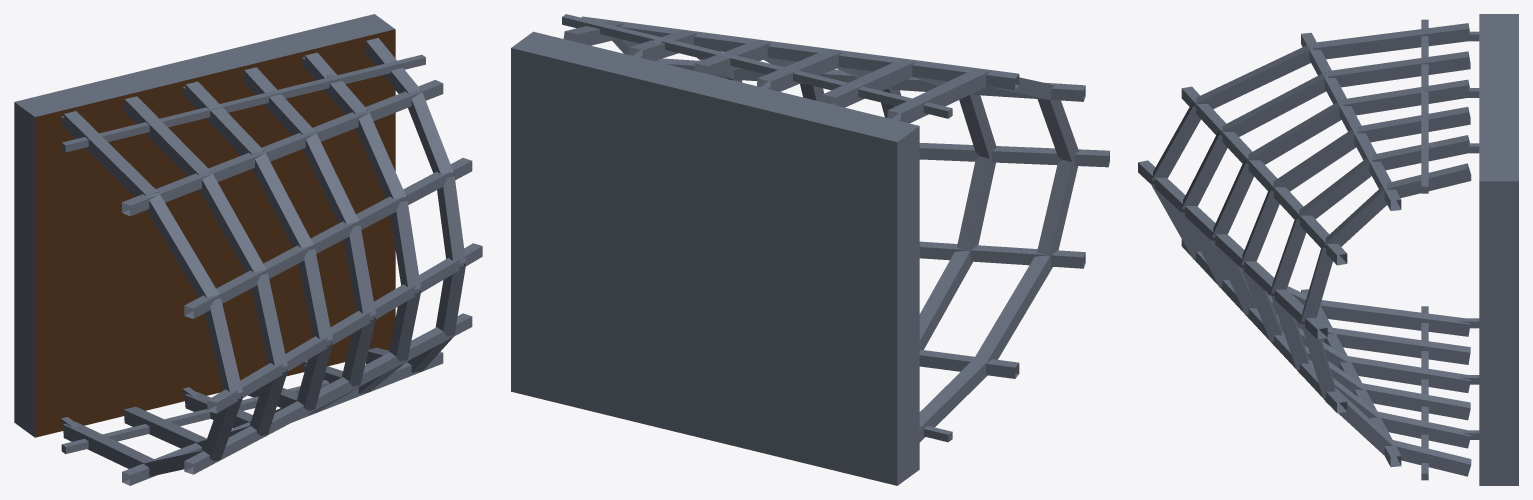
The model's file is south.glb.
The picture shows the model from 3 angles, left to right: view 1: azimuth 30°, elevation 25°; view 2: azimuth 150°, elevation 25°; view 3: azimuth 270°, elevation 25°; orthographic projection. The views are drawn at different scales.
Visible parts, largest first — view 1: bridge_12_south; view 2: bridge_12_south; view 3: bridge_12_south.
Part boxes in pixels (x1,y1,x2,y2): bridge_12_south: (14,14,482,485); bridge_12_south: (511,14,1109,485); bridge_12_south: (1138,14,1518,485).
Bounding box in the file's own units: 16.19 × 13.74 × 15.4.
